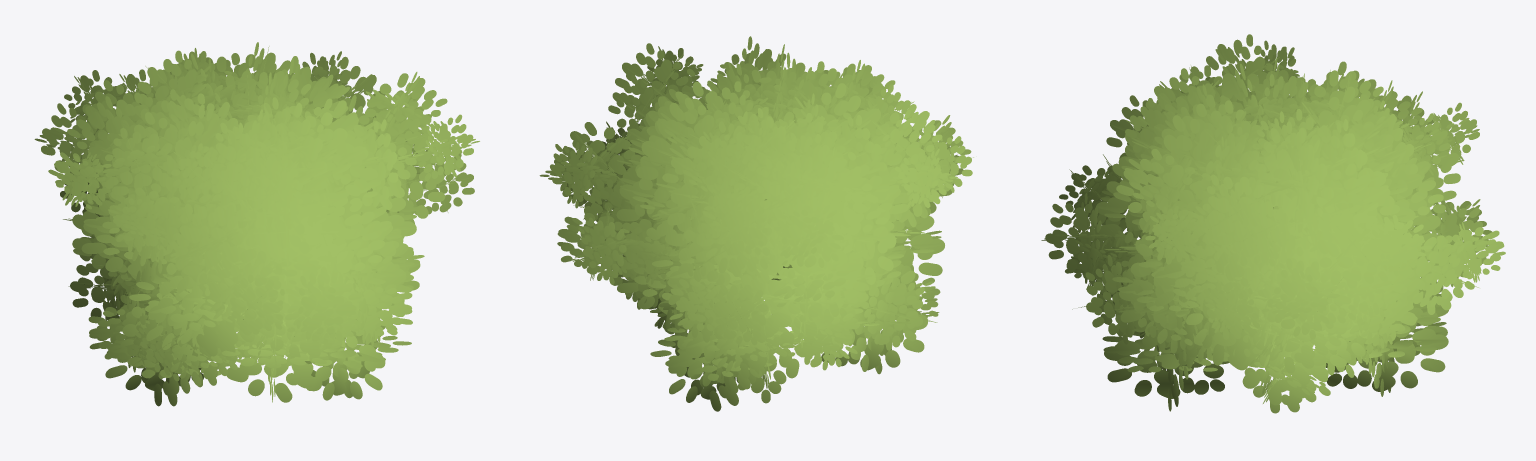
Rendered from nkbush.glb.
The picture shows the model from 3 angles, left to right: view 1: azimuth 30°, elevation 25°; view 2: azimuth 150°, elevation 25°; view 3: azimuth 270°, elevation 25°; orthographic projection. The views are drawn at different scales.
Visible parts, largest first — view 1: Bush_Common; view 2: Bush_Common; view 3: Bush_Common.
Part boxes in pixels (box(x1,y1,x2,y2)): Bush_Common: box(34, 42, 479, 406); Bush_Common: box(539, 36, 973, 411); Bush_Common: box(1041, 34, 1505, 413).
Bounding box in the file's own units: 1.91 × 1.58 × 1.97.
1 material, 1 textured.
